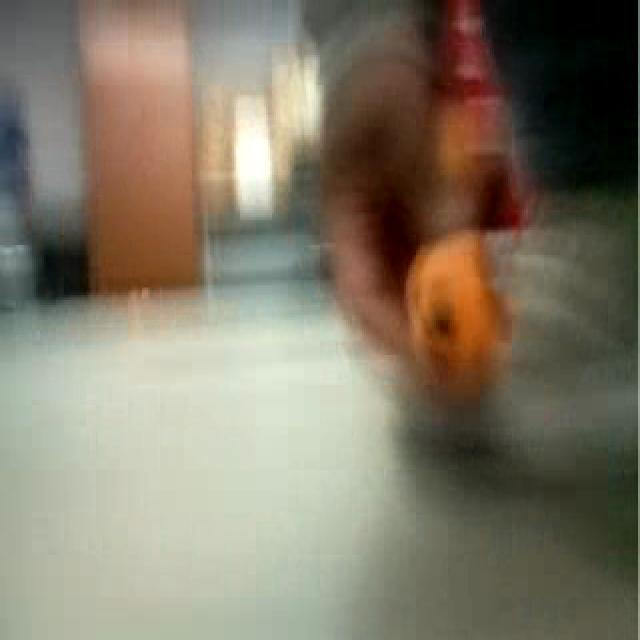oball: (407, 229, 513, 399)
